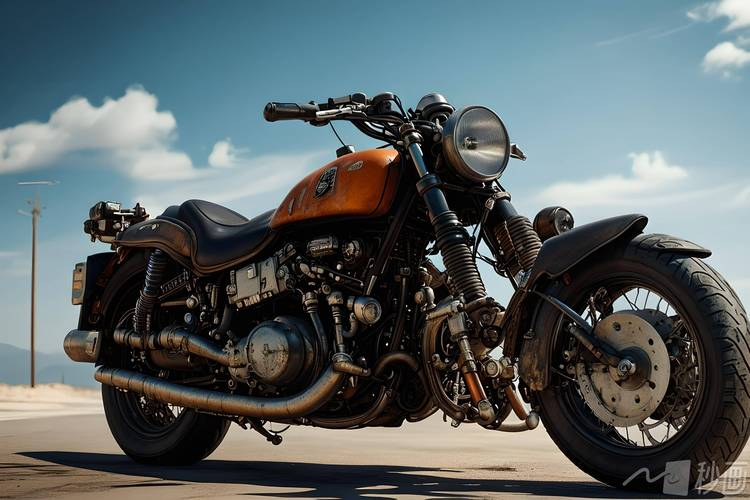摩托车: (70, 90, 750, 497)
